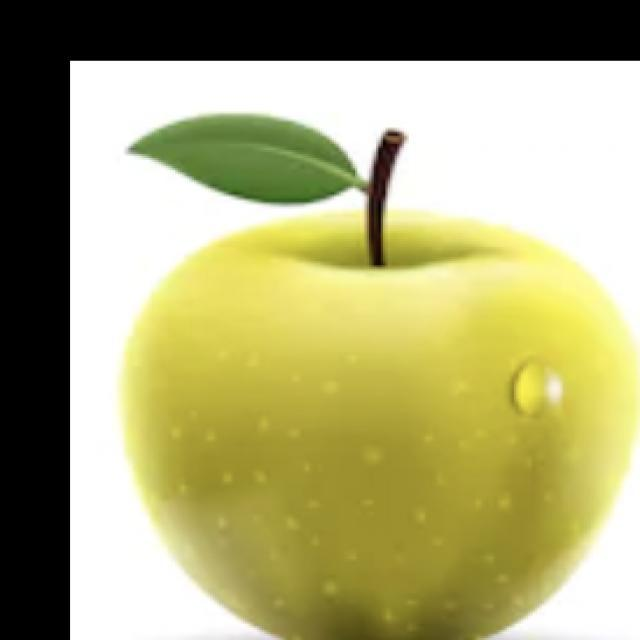Fresh Apple: (111, 211, 640, 640)
